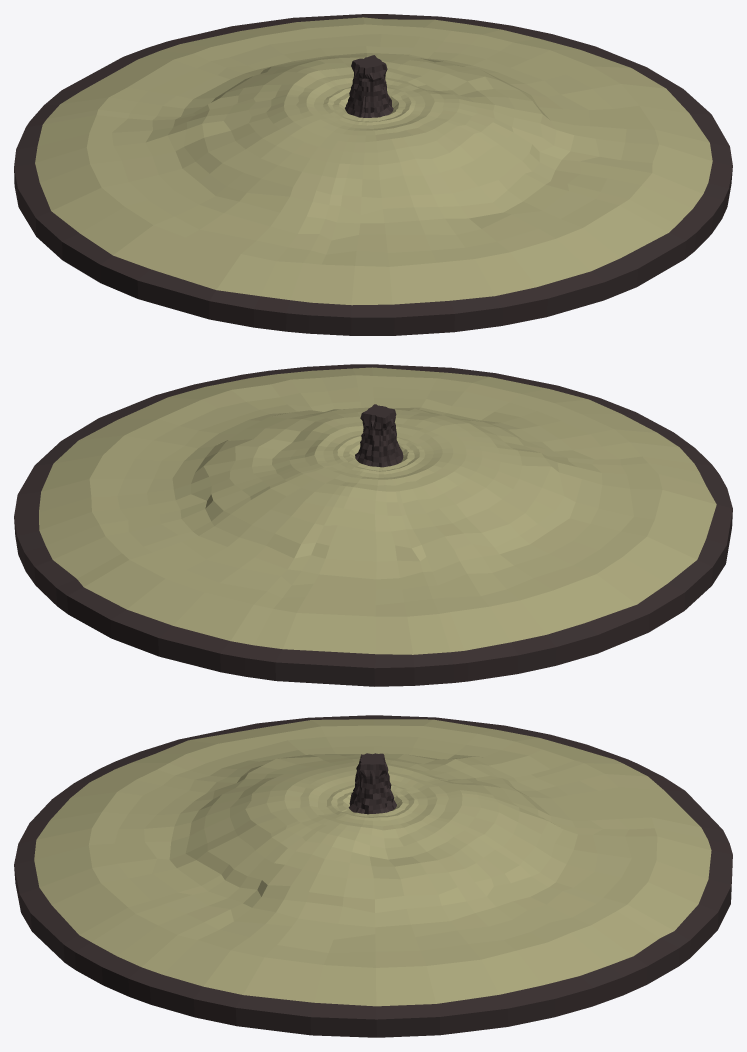
File: underwaterground.glb
3 views of the same model, one above another, from view 1: azimuth 30°, elevation 25°; view 2: azimuth 150°, elevation 25°; view 3: azimuth 270°, elevation 25° (orthographic).
Parts seen in each view (by area): view 1: Cube; view 2: Cube; view 3: Cube.
Part boxes in pixels (x1,y1,x2,y2): Cube: (14,14,732,335); Cube: (14,364,732,686); Cube: (14,715,732,1037).
Bounding box in the file's own units: 1323 × 253 × 1321.
